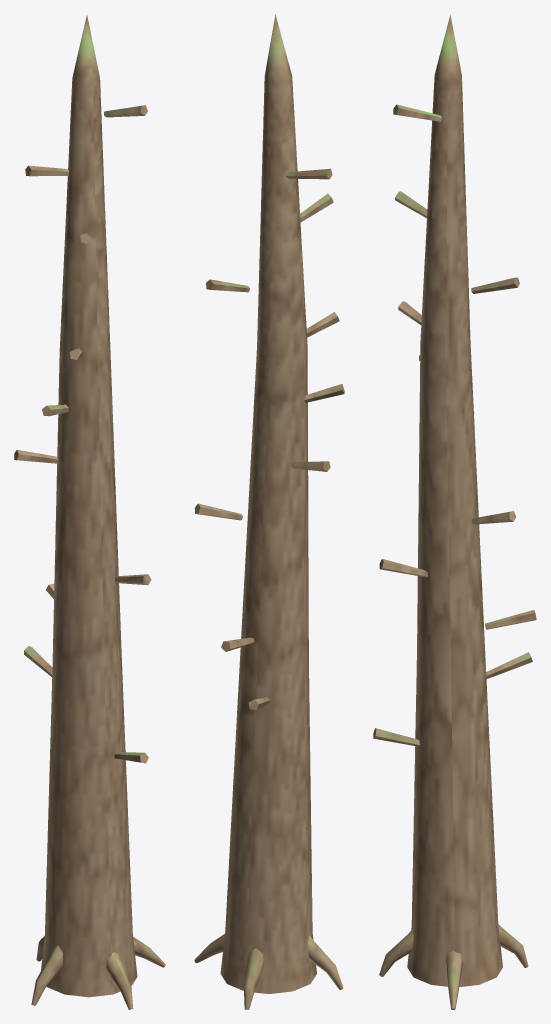
The model's file is pine_trunk.gltf.
3 renders of one model, left to right at view 1: azimuth 30°, elevation 25°; view 2: azimuth 150°, elevation 25°; view 3: azimuth 270°, elevation 25°, orthographic.
Visible parts, largest first — view 1: pine_trunk; view 2: pine_trunk; view 3: pine_trunk.
Part boxes in pixels (x1,y1,x2,y2): pine_trunk: (14,15,165,1009); pine_trunk: (194,14,344,1009); pine_trunk: (373,15,536,1009).
Bounding box in the file's own units: 1.42 × 9.27 × 1.43.
Materials: 1 (1 with a texture image).
